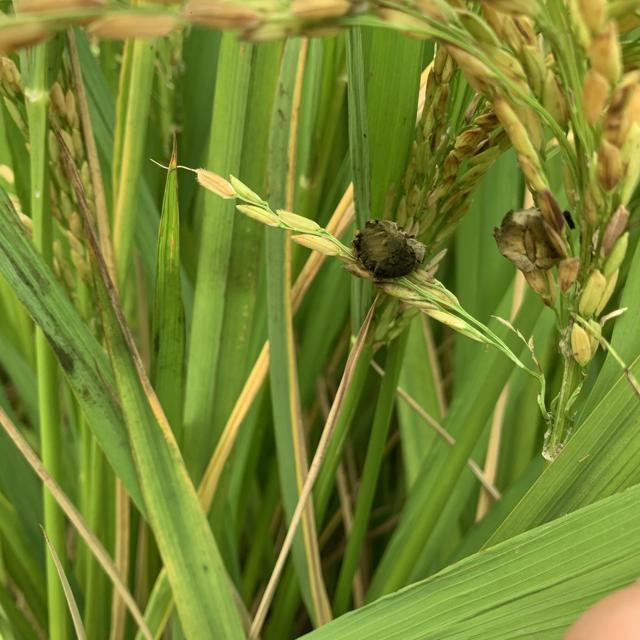Leaf_Scald: (491, 202, 567, 278), (352, 215, 428, 283)
